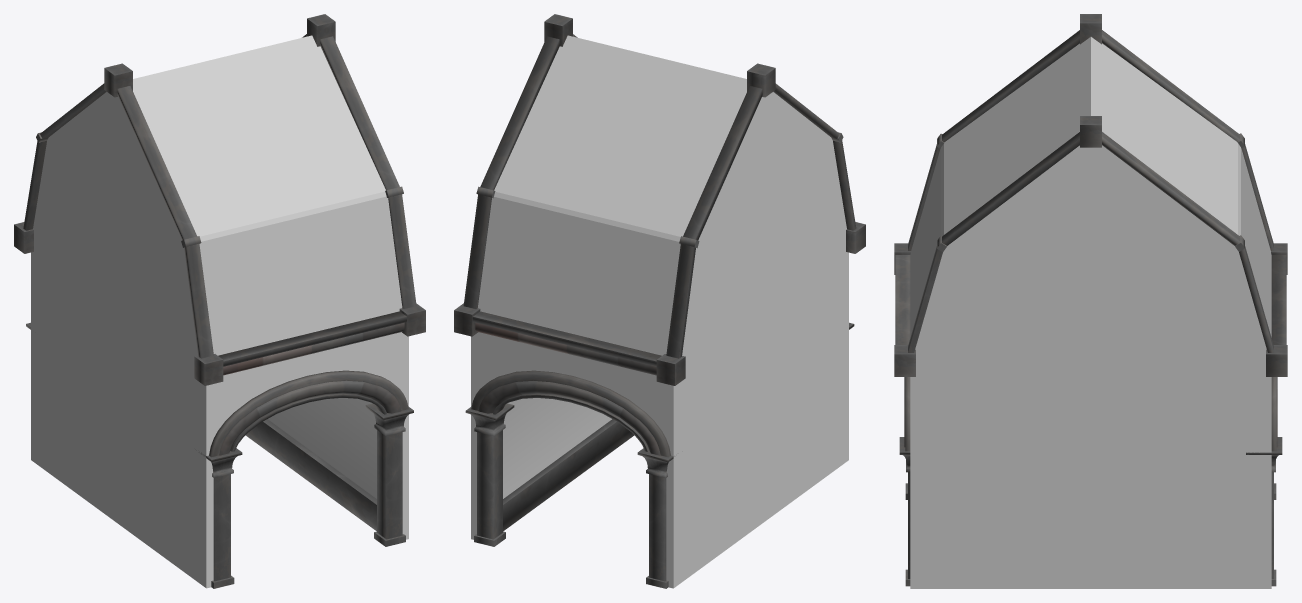
The model's file is Building_02_Passage.fbx.
3 views of the same model, side by side, from view 1: azimuth 30°, elevation 25°; view 2: azimuth 150°, elevation 25°; view 3: azimuth 270°, elevation 25° (orthographic). The views are drawn at different scales.
Parts seen in each view (by area): view 1: Building_02_Passage; view 2: Building_02_Passage; view 3: Building_02_Passage.
Part boxes in pixels (x1=…): Building_02_Passage: x1=14, y1=14, x2=425, y2=588; Building_02_Passage: x1=454, y1=14, x2=865, y2=588; Building_02_Passage: x1=894, y1=14, x2=1287, y2=588.
Size of what is drawn, in the model's own units: 4.37 by 8.59 by 6.53.
